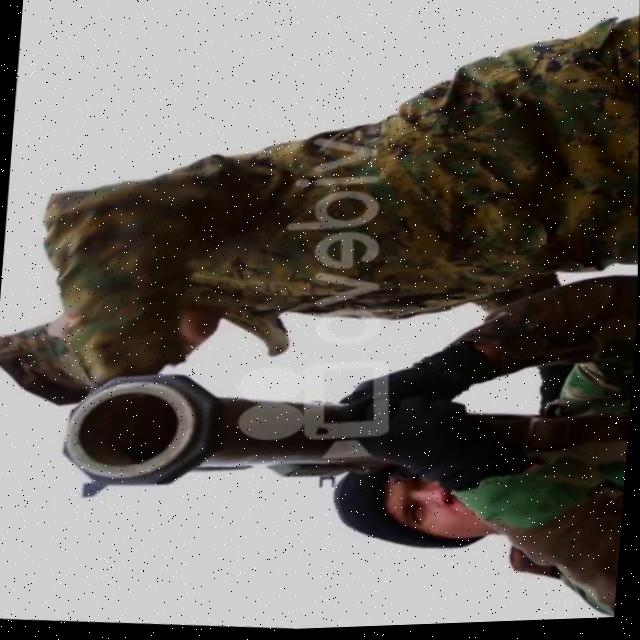rocket: (51, 343, 385, 514)
